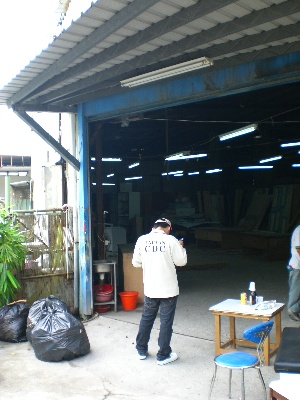bottle: (240, 291, 247, 305), (248, 281, 256, 292)
bowl: (92, 292, 113, 302)
bucket: (118, 290, 138, 311)
plastic_bag: (31, 309, 91, 362), (1, 300, 30, 343)
